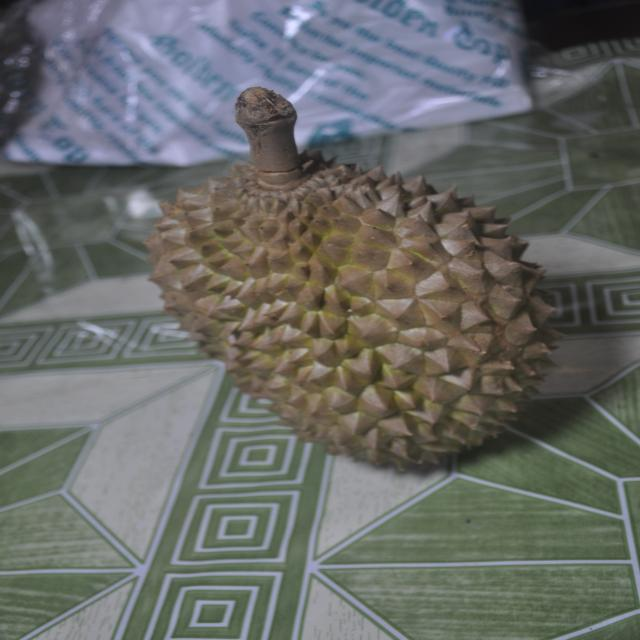mature: (146, 87, 562, 468)
